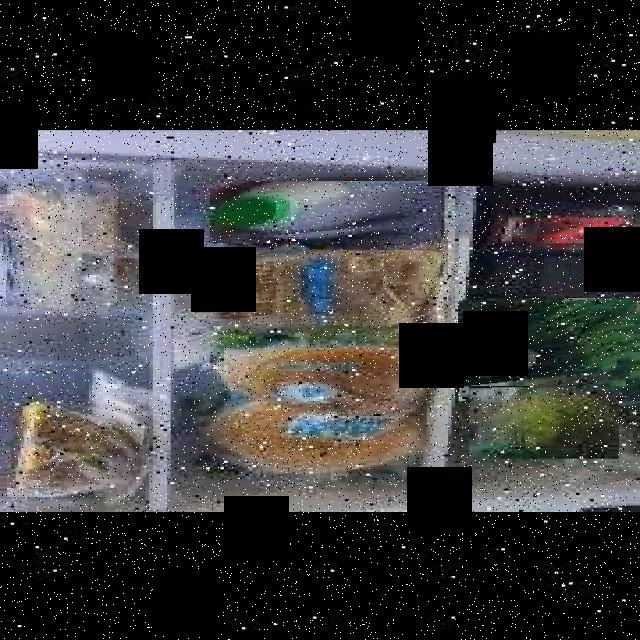asparagus: (0, 200, 50, 282)
bread: (181, 250, 448, 324)
green_beans: (458, 298, 640, 399)
humus: (0, 394, 50, 488)
lemon: (0, 268, 53, 307)
milk: (210, 181, 441, 241)
pineapple: (7, 399, 149, 497)
salad: (469, 386, 619, 457)
